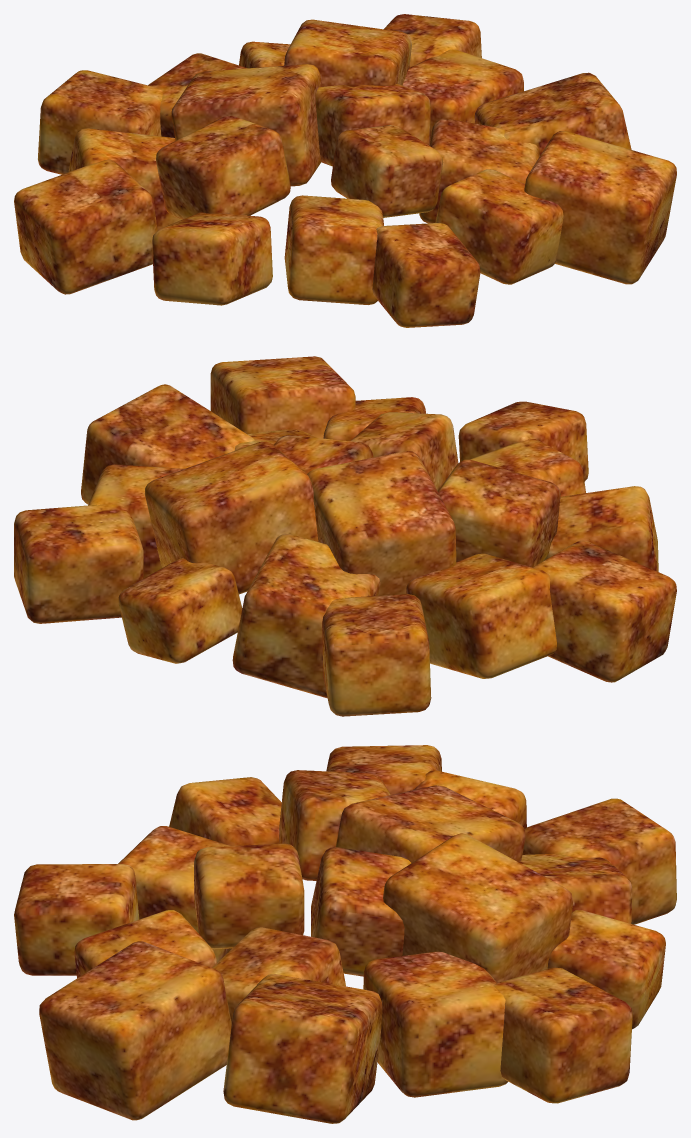
File: savory-potato.glb
The picture shows the model from 3 angles, top to bottom: view 1: azimuth 30°, elevation 25°; view 2: azimuth 150°, elevation 25°; view 3: azimuth 270°, elevation 25°; orthographic projection. The views are drawn at different scales.
Visible parts, largest first — view 1: savory-potato; view 2: savory-potato; view 3: savory-potato.
Boxes of the visible parts, box(x1,y1,x2,y2) form: savory-potato: box(14, 14, 676, 327); savory-potato: box(14, 356, 676, 716); savory-potato: box(14, 745, 676, 1123).
Bounding box in the file's own units: 1.48 × 0.3789 × 1.33.
1 material, 1 textured.
